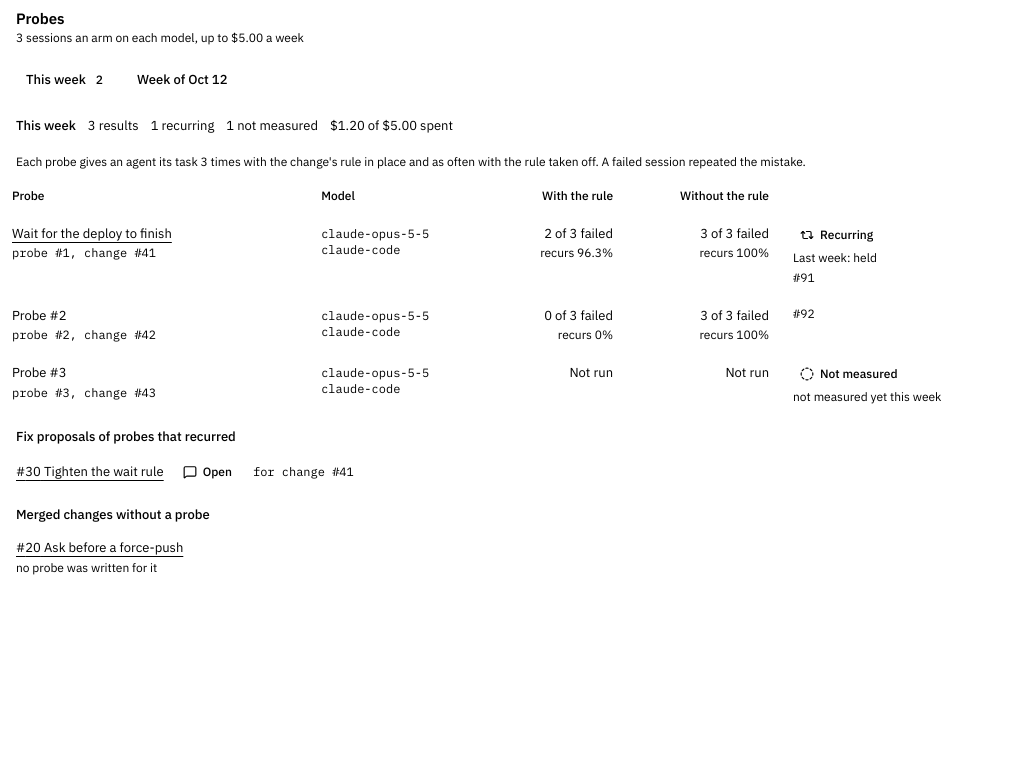
Test case: ProbeReport › shows the latest week with a flag only on what is not as expected, and the weeks before it on demand
The image size is (1024, 768).
Expected: the heading "Probes" is shown, 16,9 -> 65,28
Expected: the element with test id "probe-report" shows "3 sessions an arm on each model, up to $5.00 a week", 16,30 -> 304,45
Click the button with test id "probe-week".
click(182, 80)  # box 127,66 -> 237,94
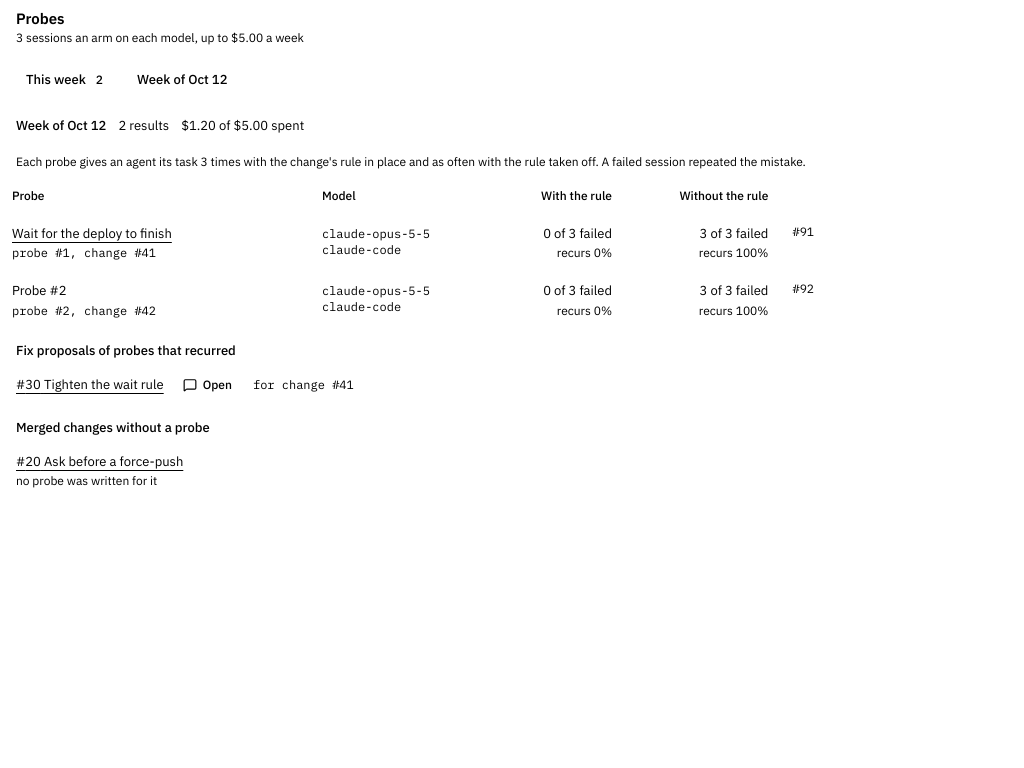
Now the number of rows with test id "probe-result" is 2, box 0,214 -> 1023,271; 0,271 -> 1023,328
Now no elements with test id "probe-flag" are shown
